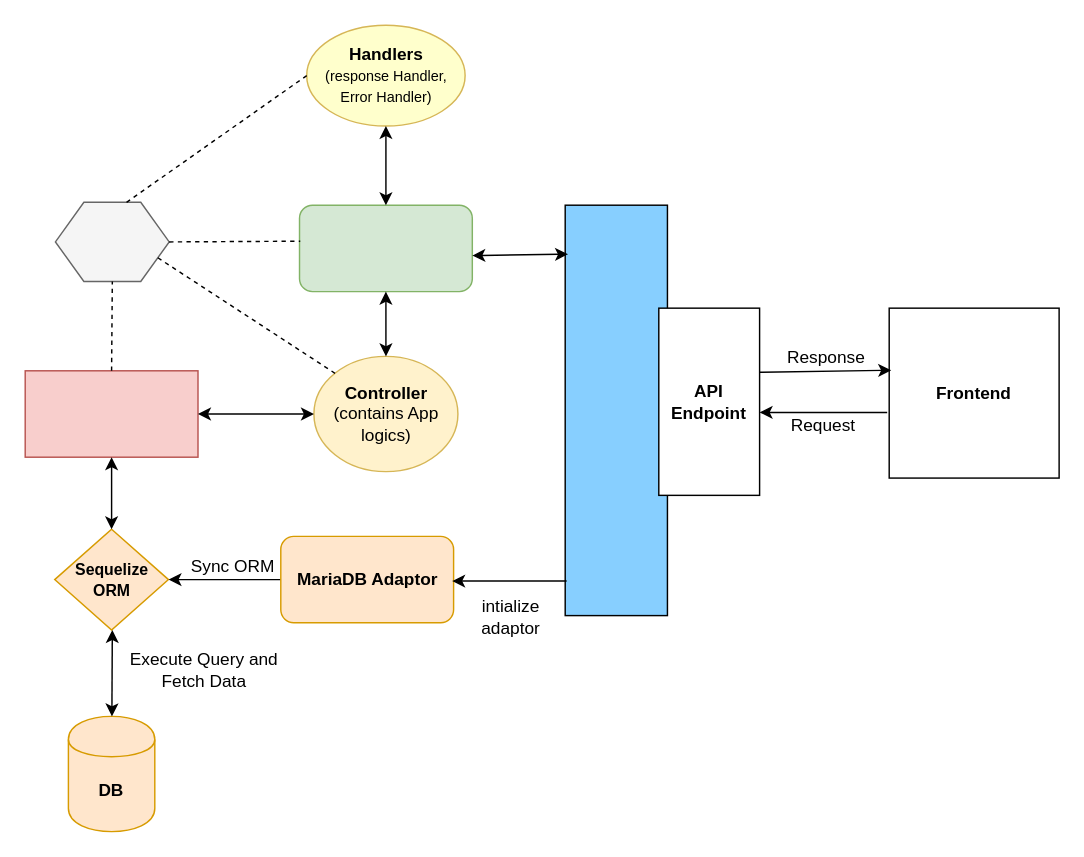
Some shapes in this 1084 by 857 pixel diagram are drawn without their labels. The shapes that lost their labels are listed below. From the top down, each one's centre as x and y in pixels, then its label:
At point (111, 241): "Interfaces".
At point (385, 248): "Routes".
At point (111, 413): "Repository (contains Schema and make queries)".
At point (615, 410): "App Server".
